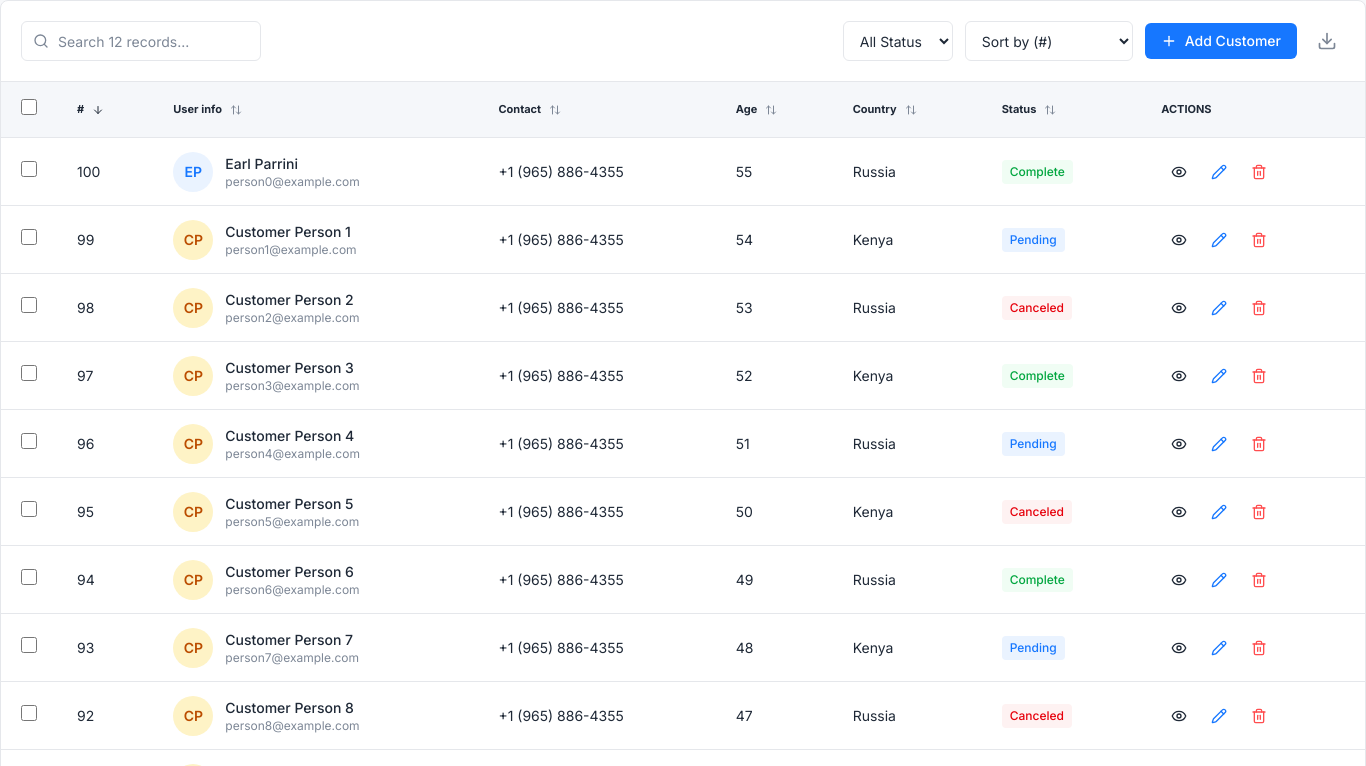
Test case: Customer List › supports page size, last page, go to and selection across pages
Click the checkbox named "Select all customers" at coordinates (29, 107), box [21, 99, 37, 115]
(page scrolled)
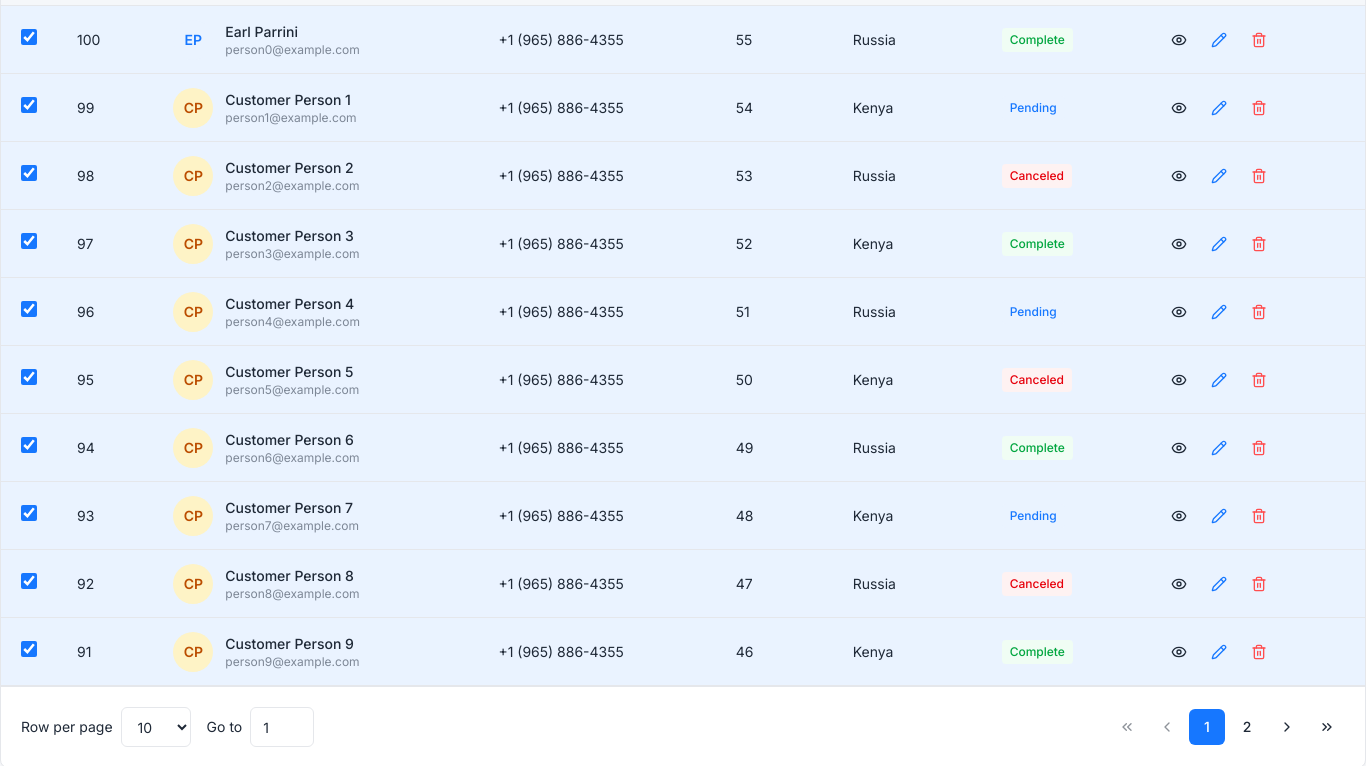
Click the button named "Go to last page" at coordinates (1327, 727), box [1309, 709, 1345, 745]
(page scrolled)
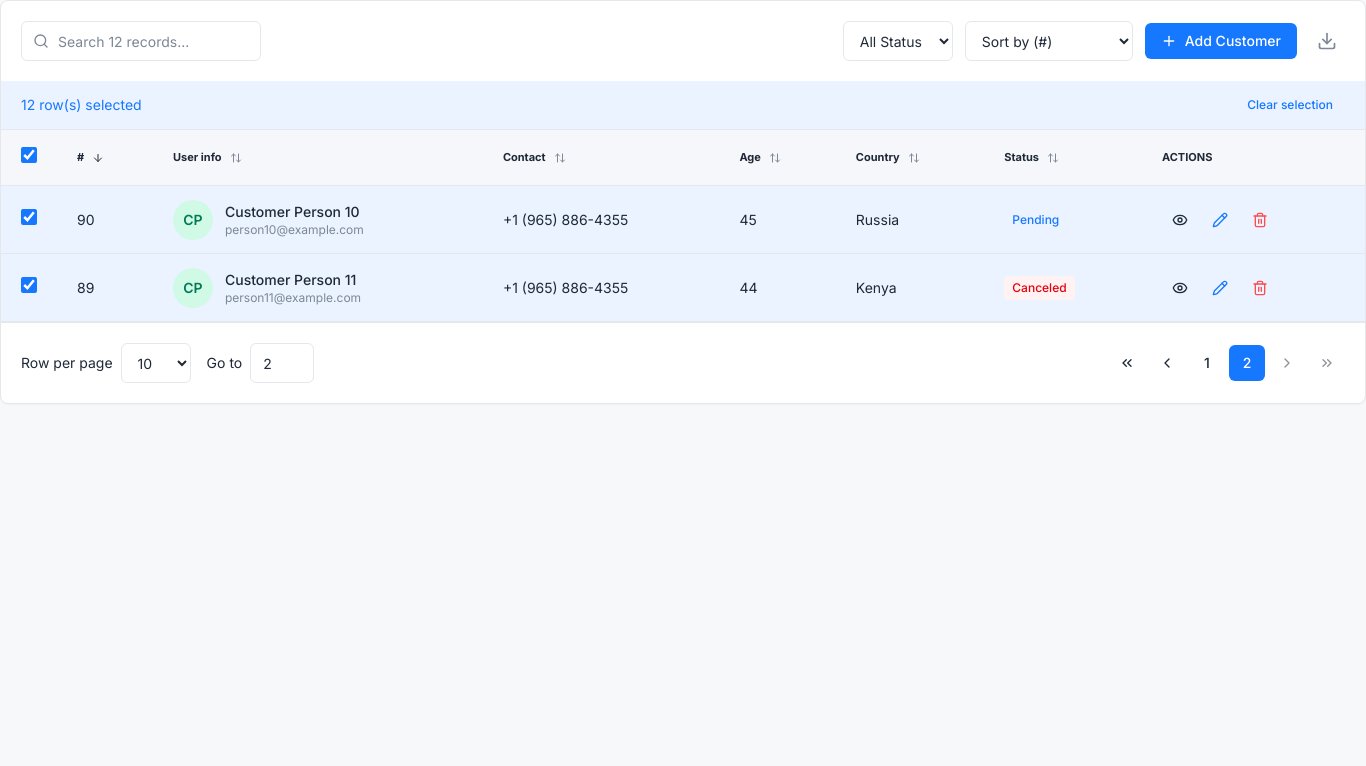
Now the checkbox named "Select customer 89" is checked, box [21, 277, 37, 293]
Replace the text in the number field named "Go to page" with "1" at coordinates (282, 363), box [250, 343, 314, 383]
(page scrolled)
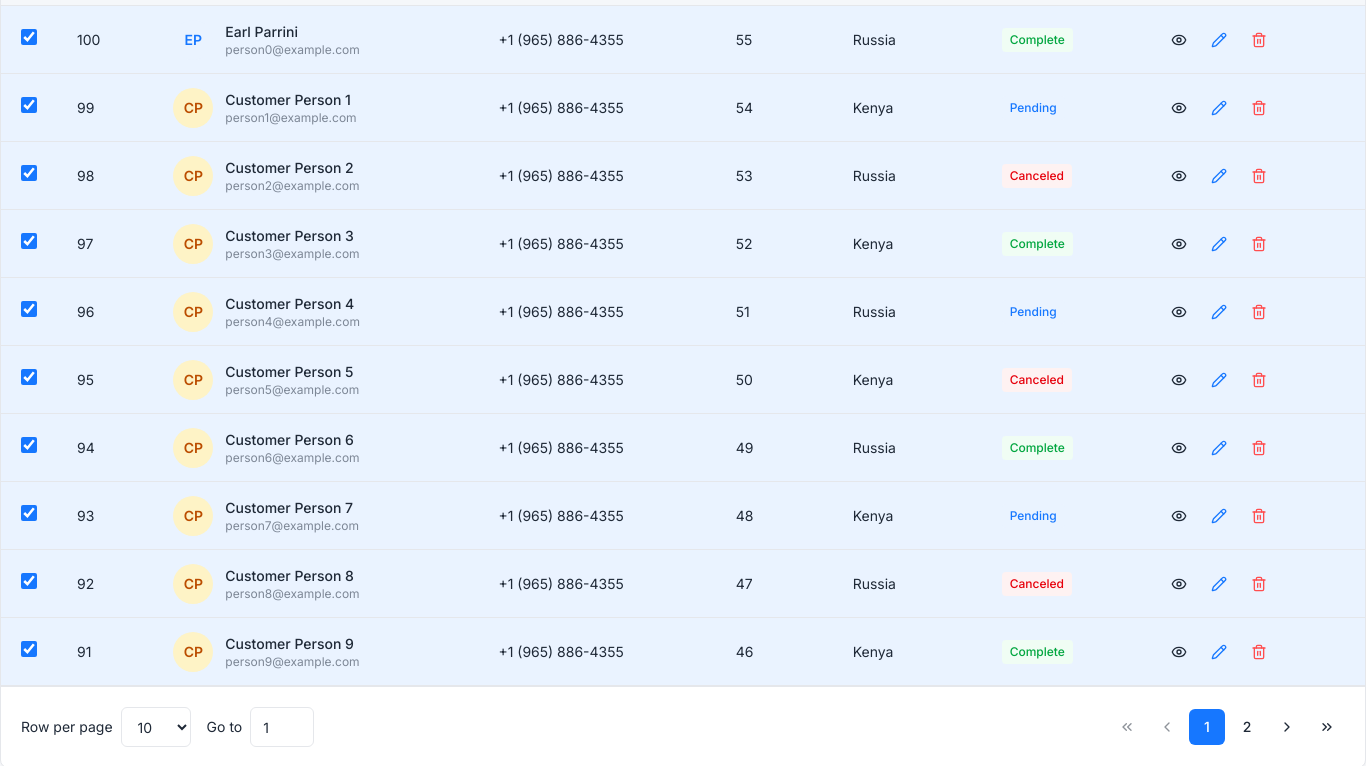
Select "5" in the dropdown labelled "Row per page" at coordinates (156, 727), box [121, 707, 191, 747]
(page scrolled)
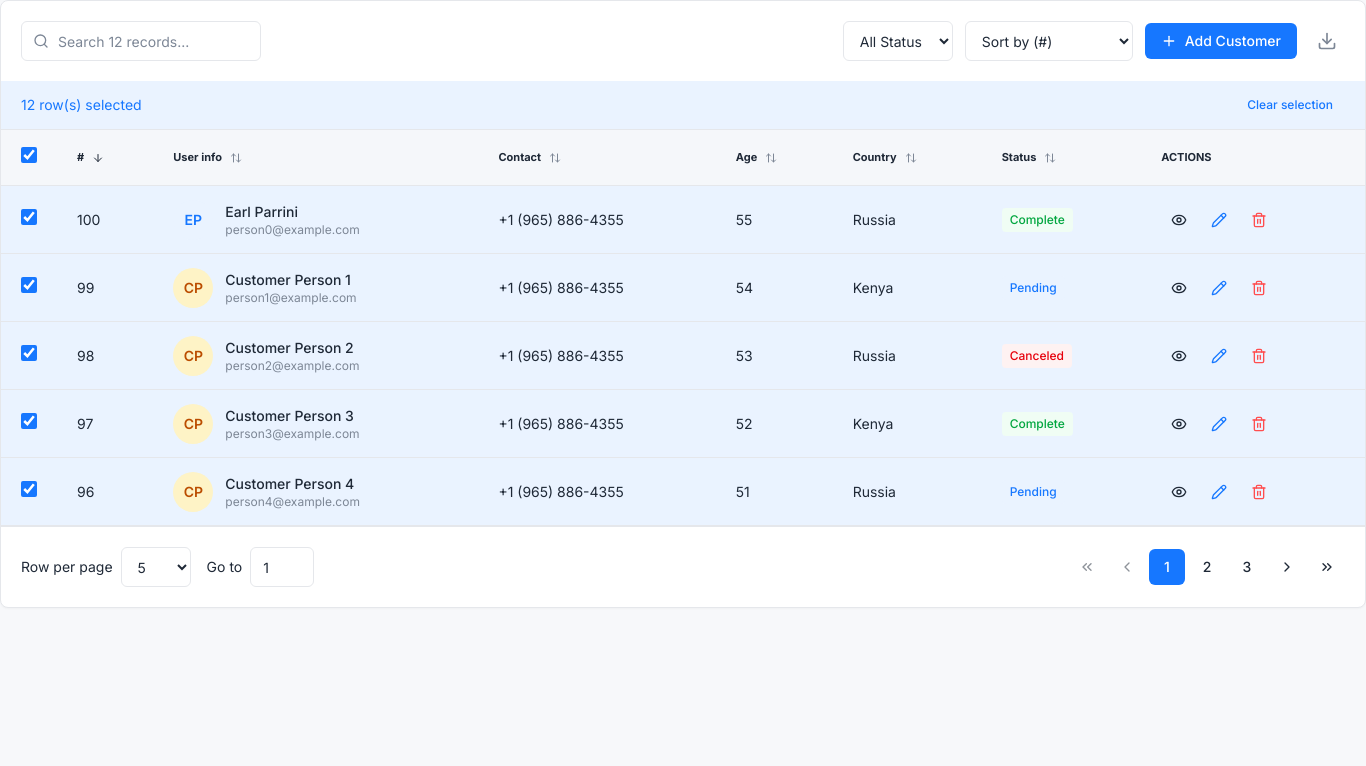
Click the button "Clear selection" at coordinates (1290, 105), box [1235, 89, 1345, 121]
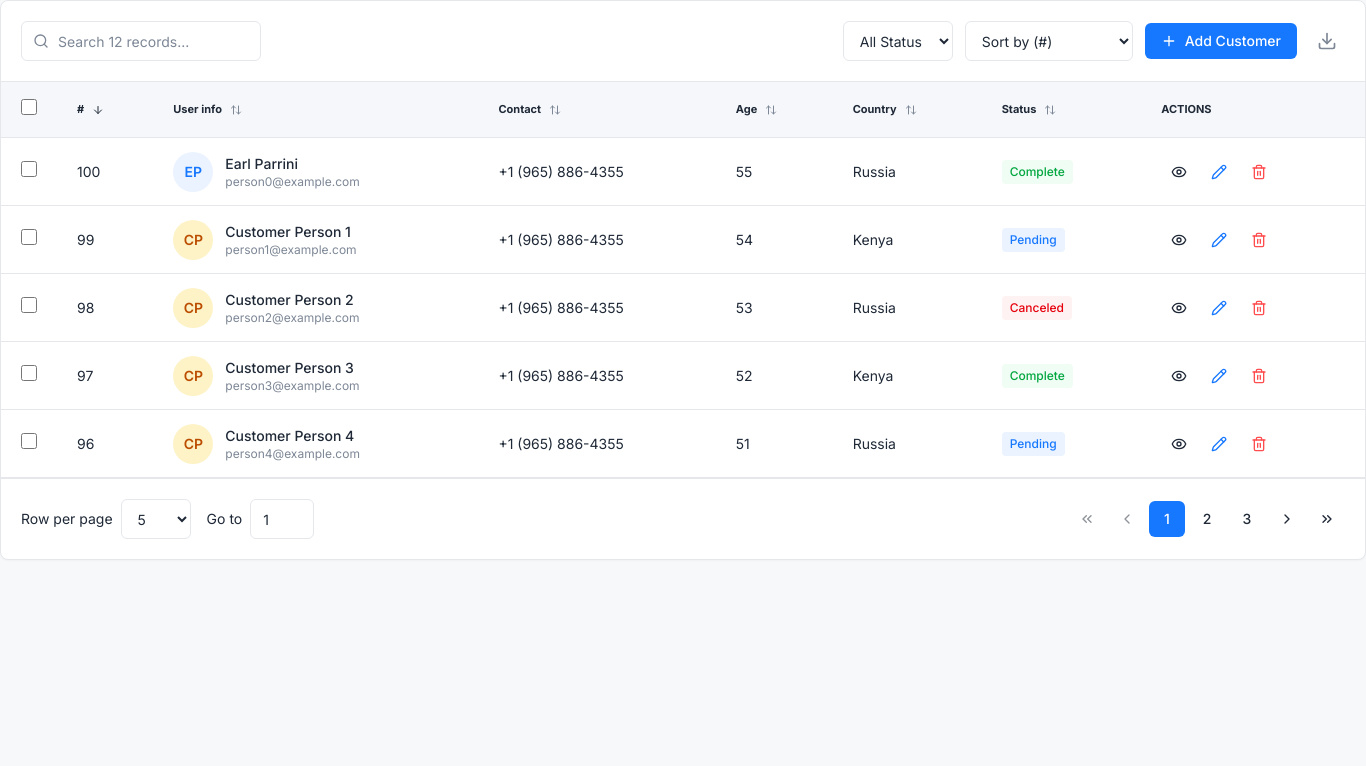
Now the checkbox named "Select customer 100" is not checked, box [21, 161, 37, 177]
